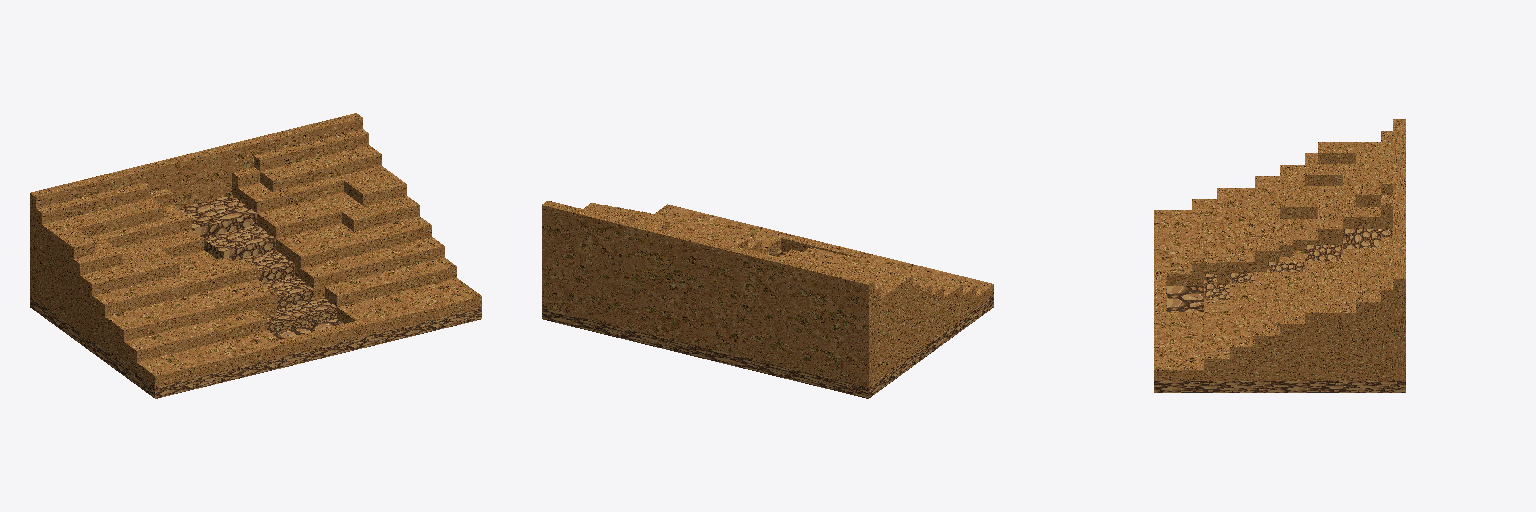
3 renders of one model, left to right at view 1: azimuth 30°, elevation 25°; view 2: azimuth 150°, elevation 25°; view 3: azimuth 270°, elevation 25°, orthographic.
Parts seen in each view (by area): view 1: Cube.028_Cube.093, Cube.032_Cube.096, Cube.000, Cube.014_Cube.080, Cube.033_Cube.097, Cube.006, Cube.018_Cube.101, Cube.022_Cube.003, Cube.004_Cube.073, Cube.024_Cube.089, Cube.003_Cube.072, Cube.001_Cube.070 (+22 smaller); view 2: Cube.006, Cube.000, Cube.032_Cube.096, Cube_Cube.005_Cube_Cube.002, Cube.028_Cube.093, Cube_Cube.001, Cube.014_Cube.080, Cube.024_Cube.089, Cube.022_Cube.003, Cube.033_Cube.097, Cube.018_Cube.101, Cube_Cube.007_Cube_Cube.008 (+3 smaller); view 3: Cube.014_Cube.080, Cube.004_Cube.073, Cube.028_Cube.093, Cube.018_Cube.101, Cube.032_Cube.096, Cube.033_Cube.097, Cube.038_Cube.102, Cube.006, Cube.003_Cube.072, Cube.001_Cube.070, Cube.037_Cube.100, Cube.022_Cube.003 (+16 smaller).
Boxes of the visible parts, box(x1,y1,x2,y2) form: Cube.028_Cube.093: box(55, 279, 276, 350); Cube.032_Cube.096: box(30, 285, 285, 387); Cube.000: box(30, 153, 198, 297); Cube.014_Cube.080: box(337, 278, 481, 336); Cube.033_Cube.097: box(55, 250, 235, 315); Cube.006: box(194, 113, 362, 202); Cube.018_Cube.101: box(276, 216, 431, 268); Cube.022_Cube.003: box(48, 287, 266, 361); Cube.004_Cube.073: box(295, 237, 444, 300); Cube.024_Cube.089: box(36, 198, 163, 313); Cube.003_Cube.072: box(325, 257, 456, 306); Cube.001_Cube.070: box(260, 145, 381, 191); Cube.006: box(542, 201, 710, 347); Cube.000: box(705, 240, 874, 387); Cube.032_Cube.096: box(738, 252, 993, 386); Cube_Cube.005_Cube_Cube.002: box(705, 342, 931, 398); Cube.028_Cube.093: box(804, 247, 962, 355); Cube_Cube.001: box(542, 308, 704, 358); Cube.014_Cube.080: box(655, 204, 786, 254); Cube.024_Cube.089: box(875, 285, 893, 382); Cube.022_Cube.003: box(845, 255, 975, 361); Cube.033_Cube.097: box(803, 255, 943, 333); Cube.018_Cube.101: box(616, 207, 747, 248); Cube_Cube.007_Cube_Cube.008: box(932, 296, 993, 351); Cube.014_Cube.080: box(1154, 312, 1355, 380); Cube.004_Cube.073: box(1230, 283, 1380, 369); Cube.028_Cube.093: box(1217, 188, 1304, 284); Cube.018_Cube.101: box(1255, 272, 1380, 346); Cube.032_Cube.096: box(1154, 210, 1203, 285); Cube.033_Cube.097: box(1255, 176, 1342, 250); Cube.038_Cube.102: box(1343, 249, 1392, 380); Cube.006: box(1393, 199, 1405, 380); Cube.003_Cube.072: box(1204, 300, 1405, 369); Cube.001_Cube.070: box(1356, 248, 1392, 380); Cube.037_Cube.100: box(1305, 261, 1380, 335); Cube.022_Cube.003: box(1192, 199, 1216, 273).
Size of the model in its own units: 30 by 10 by 20.
43 materials, 2 textured.